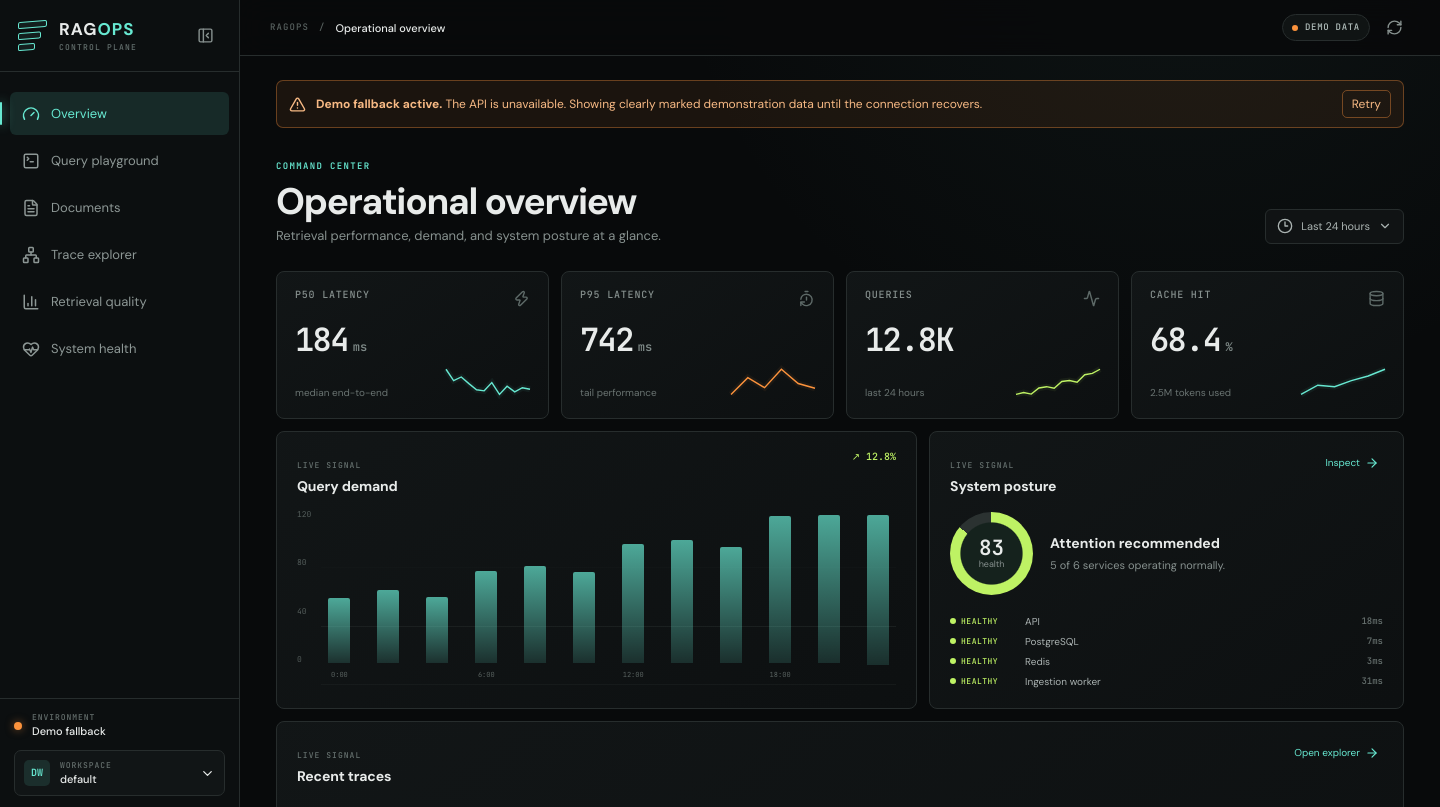
Test: RAGOps console › navigates to the playground and renders a fallback answer
This screenshot has width=1440, height=807.
Expected: the text "Demo fallback active." is shown, [316, 96, 442, 112]
Click the button "Query playground".
click(120, 160)  # box [10, 139, 229, 182]
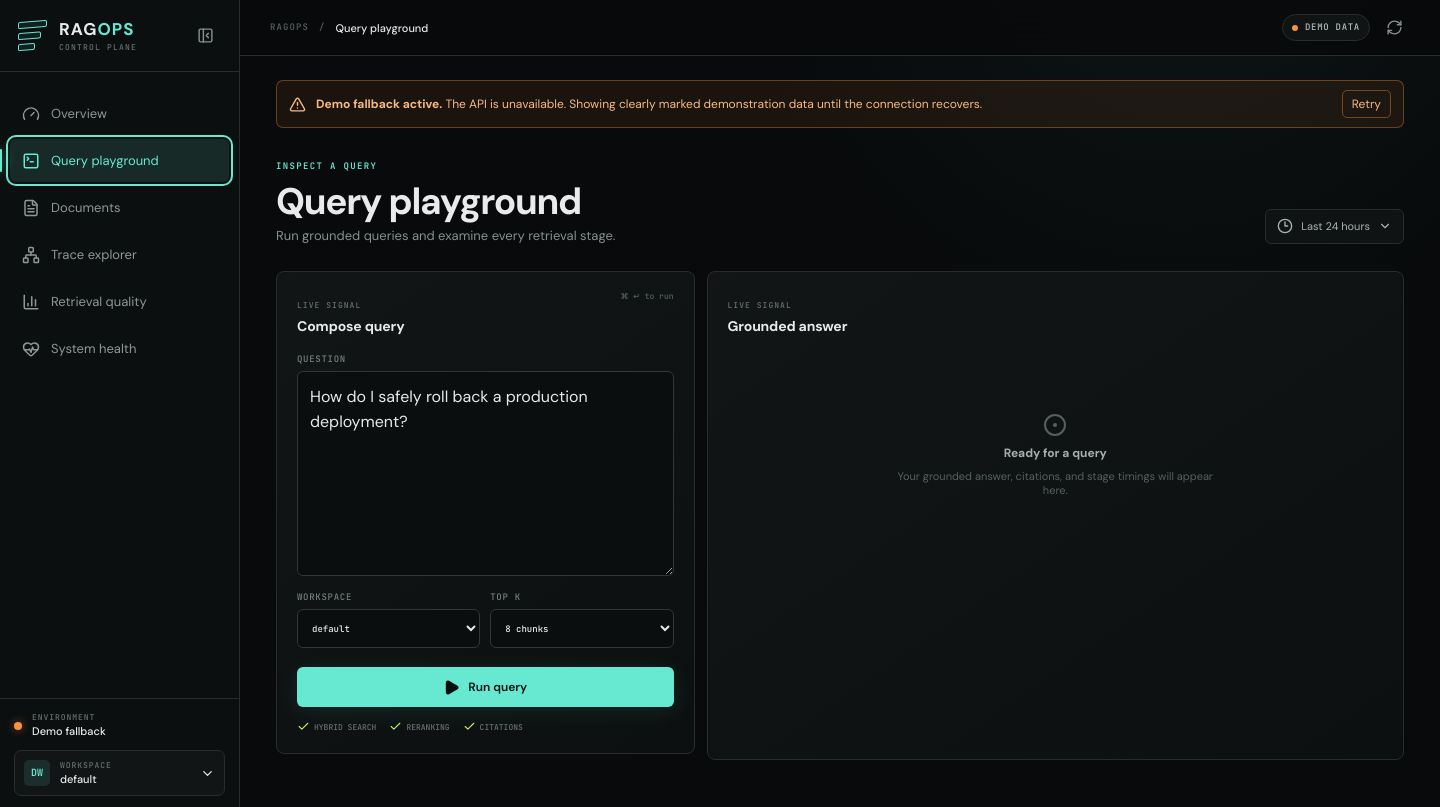
Expected: the heading "Query playground" is shown, [276, 182, 615, 221]
Click the button "Run query".
click(485, 687)  # box [297, 667, 674, 707]
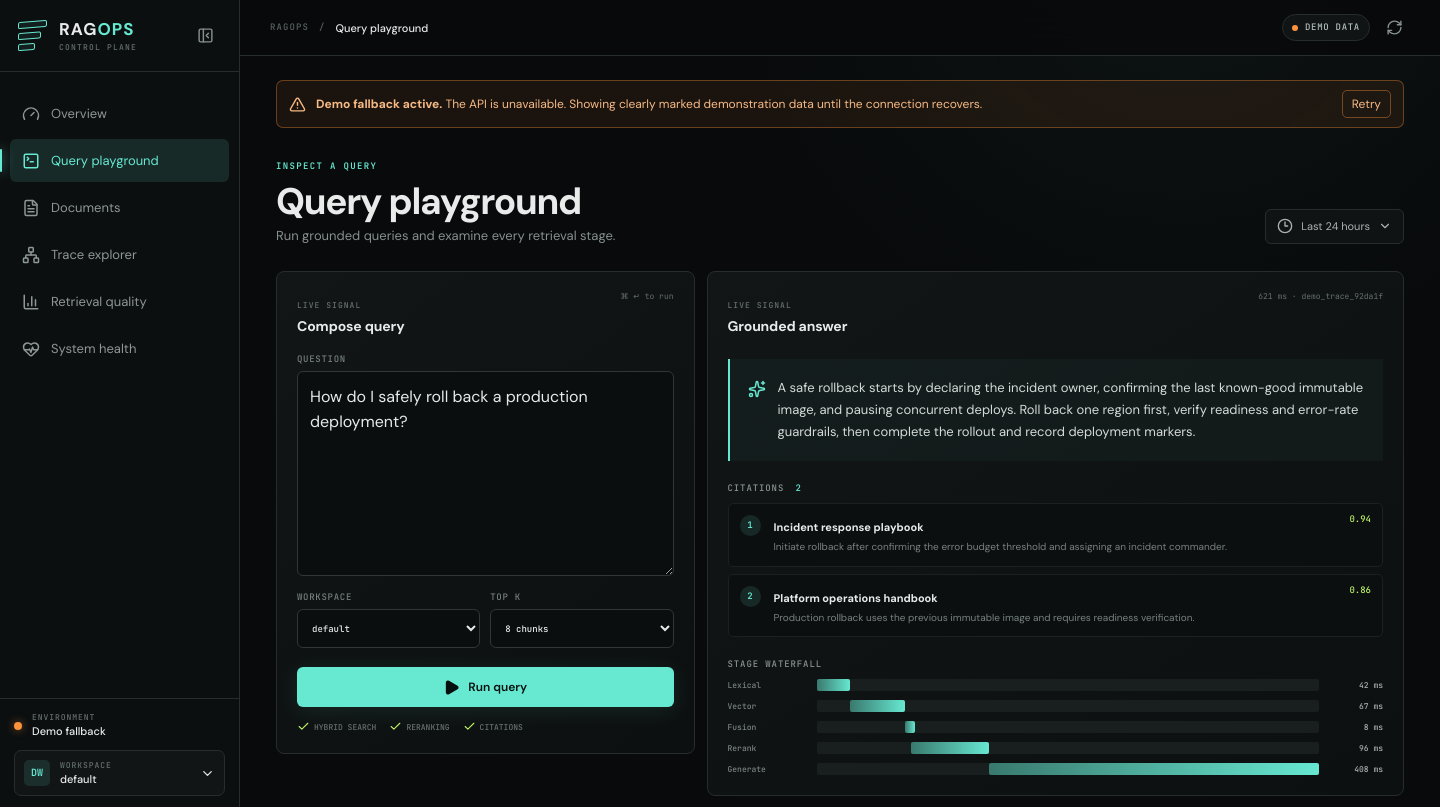
Expected: the text "A safe rollback starts" is shown, [778, 379, 1363, 440]
Expected: the text "Incident response playbook" is shown, [774, 520, 924, 534]
Expected: the element named "Retrieval stage timing" is shown, [728, 679, 1383, 775]
